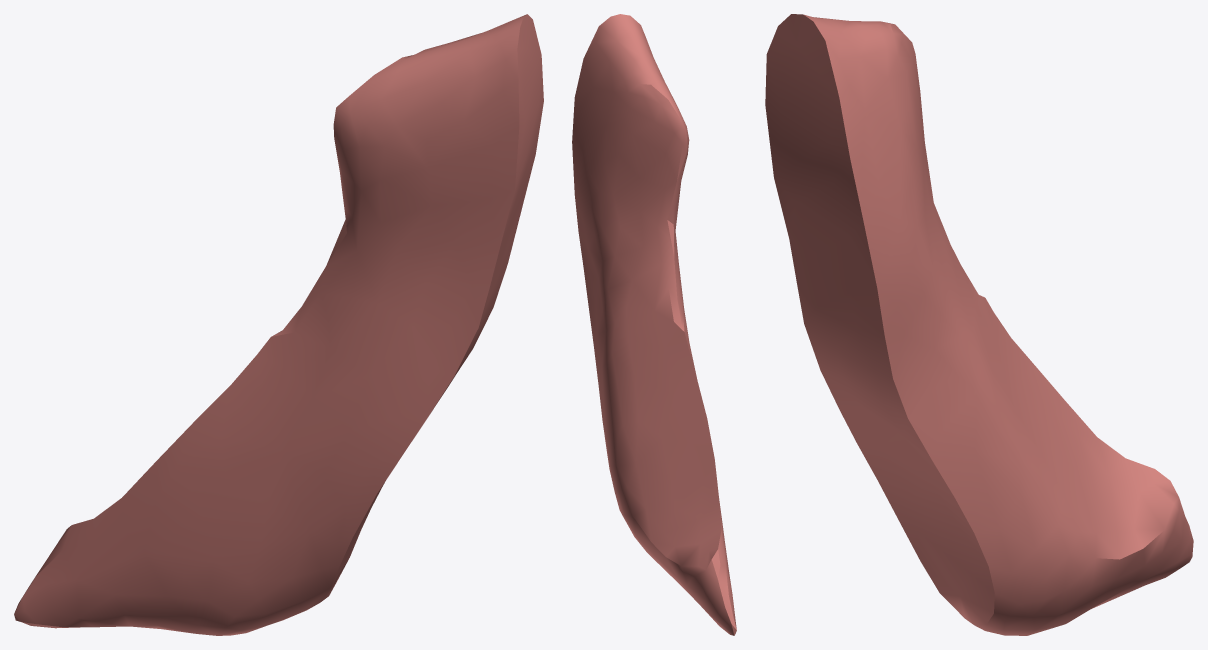
The model's file is fma299127_mm3999.glb.
3 renders of one model, left to right at view 1: azimuth 30°, elevation 25°; view 2: azimuth 150°, elevation 25°; view 3: azimuth 270°, elevation 25°, orthographic. The views are drawn at different scales.
Parts seen in each view (by area): view 1: FMA299127_MM3999; view 2: FMA299127_MM3999; view 3: FMA299127_MM3999.
Boxes of the visible parts, box(x1,y1,x2,y2) form: FMA299127_MM3999: box(14, 14, 543, 635); FMA299127_MM3999: box(572, 14, 736, 635); FMA299127_MM3999: box(765, 14, 1193, 635).
Size of the model in its own units: 0.0308 by 0.0511 by 0.0272.
